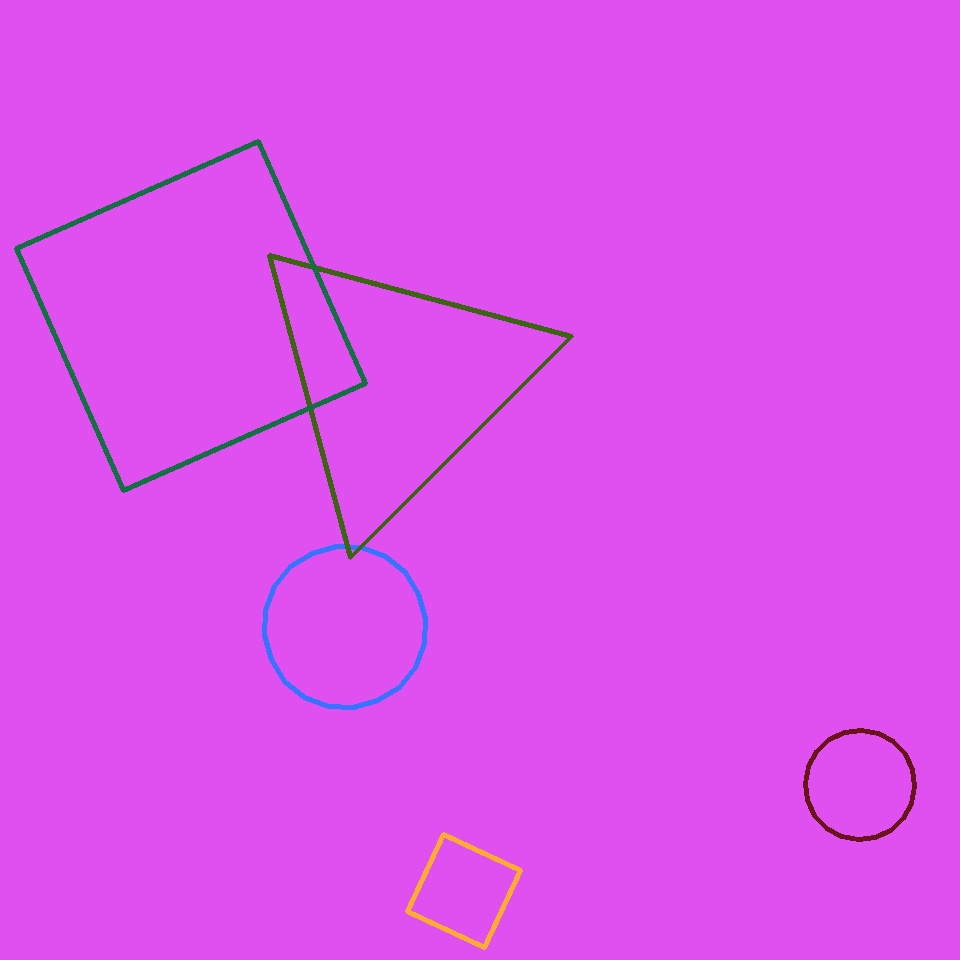circle: (246, 232, 548, 534)
square: (16, 142, 366, 491), (408, 834, 520, 948)
triangle: (264, 546, 426, 708), (806, 730, 914, 840)
